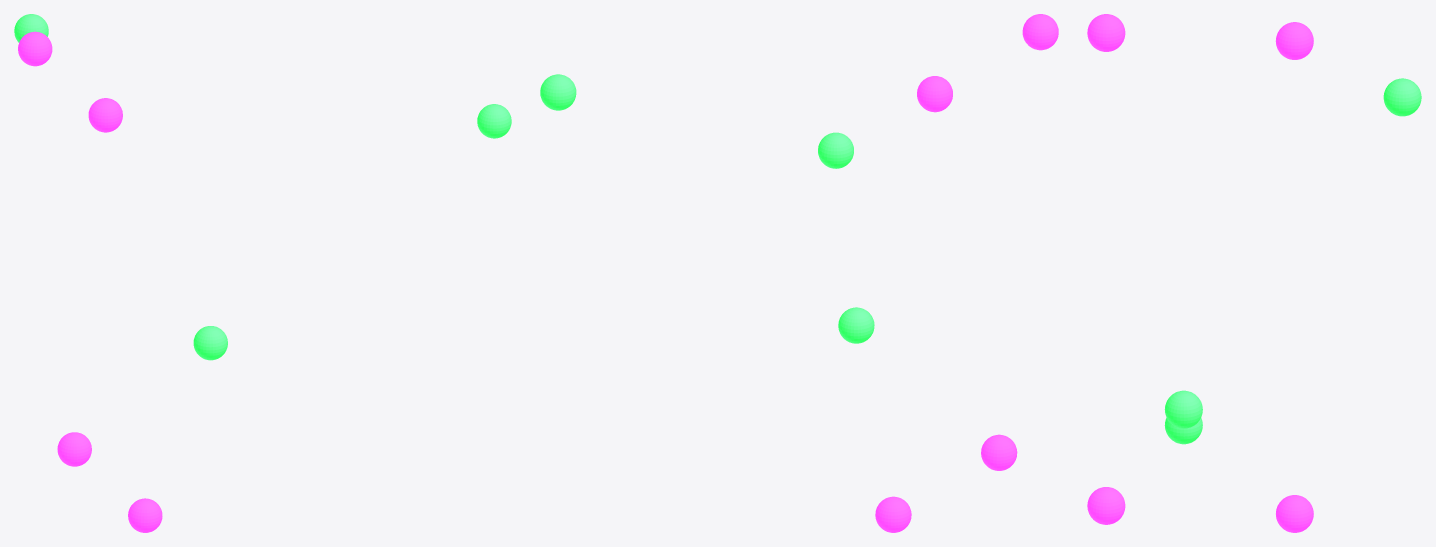
File: cuprasensoriumsensoractuators.glb
3 views of the same model, side by side, from view 1: azimuth 30°, elevation 25°; view 2: azimuth 150°, elevation 25°; view 3: azimuth 270°, elevation 25° (orthographic). The views are drawn at different scales.
Visible parts, largest first — view 1: Sphere.005, Sphere.003, Sphere, Sphere.002, Sphere.001, Sphere.004, Sphere.006; view 2: Sphere.002, Sphere, Sphere.005, Sphere.006, Sphere.001, Sphere.003, Sphere.004; view 3: Sphere.006, Sphere.004, Sphere, Sphere.002, Sphere.003, Sphere.005, Sphere.001.
Part boxes in pixels (box(x1,y1,x2,y2)): Sphere.005: box(88, 98, 122, 132); Sphere.003: box(128, 498, 162, 532); Sphere: box(477, 104, 511, 138); Sphere.002: box(57, 432, 91, 466); Sphere.001: box(193, 326, 227, 360); Sphere.004: box(18, 31, 52, 66); Sphere.006: box(14, 14, 48, 42); Sphere.002: box(875, 496, 911, 532); Sphere: box(540, 74, 576, 110); Sphere.005: box(1022, 14, 1058, 50); Sphere.006: box(818, 132, 853, 168); Sphere.001: box(838, 307, 874, 343); Sphere.003: box(981, 434, 1017, 470); Sphere.004: box(917, 76, 952, 112); Sphere.006: box(1383, 78, 1421, 116); Sphere.004: box(1275, 22, 1313, 59); Sphere: box(1164, 390, 1202, 428); Sphere.002: box(1276, 495, 1313, 532); Sphere.003: box(1087, 487, 1125, 524); Sphere.005: box(1087, 14, 1125, 51); Sphere.001: box(1164, 418, 1202, 444).
Size of the model in its own units: 1.05 by 0.973 by 0.6064.
